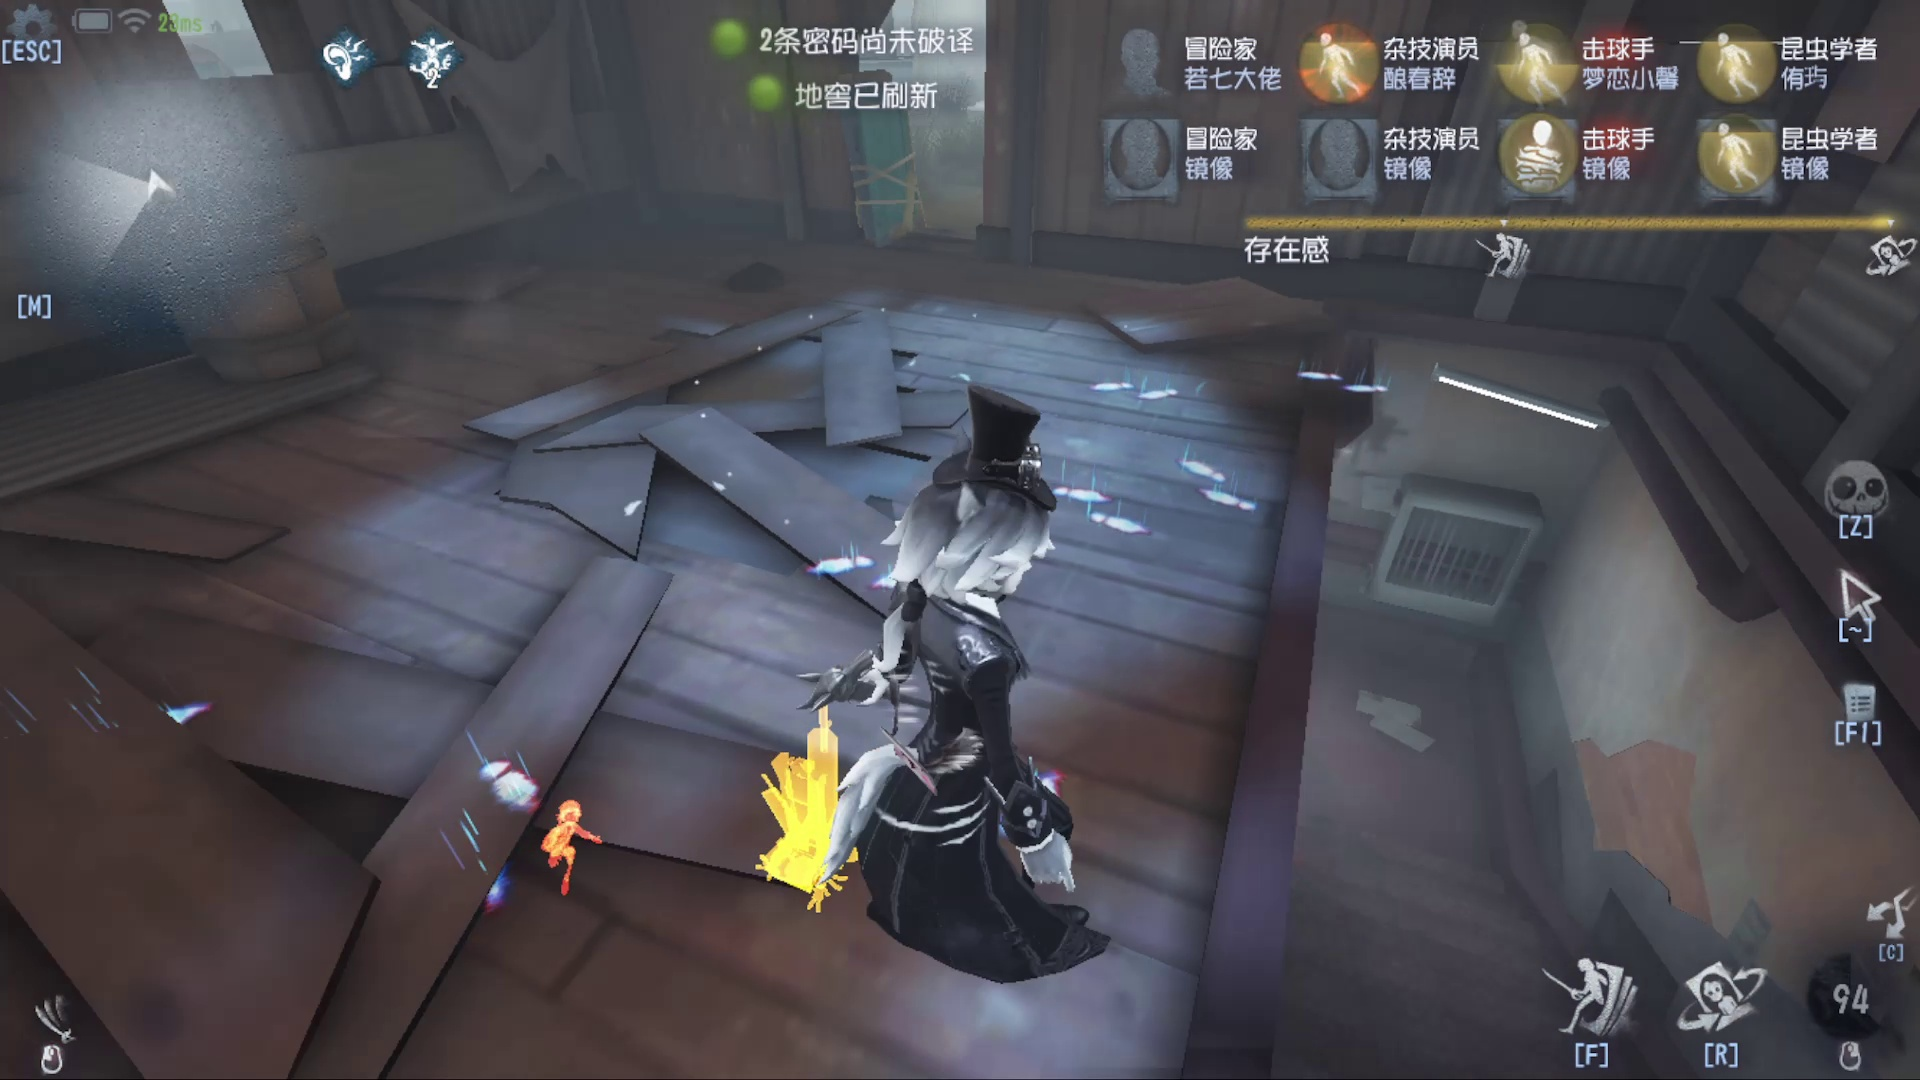求生者: (559, 783, 603, 938)
狂欢之椅: (741, 683, 868, 920)
